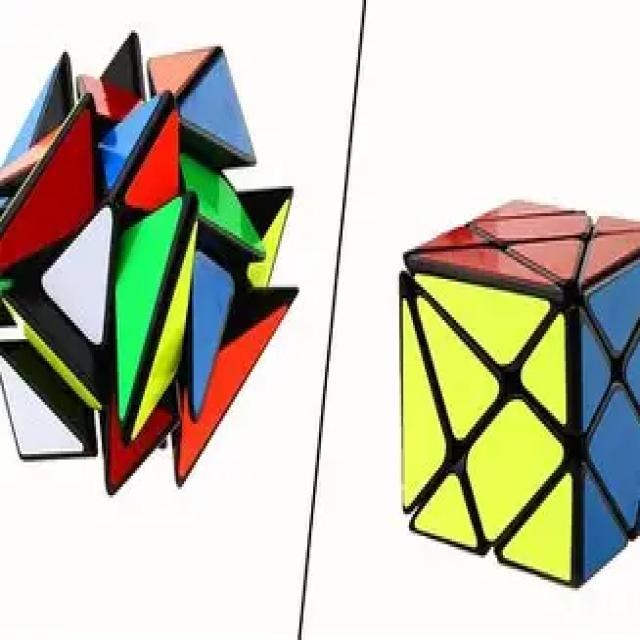Rubiks Cube: (0, 18, 306, 522), (404, 198, 638, 588)
